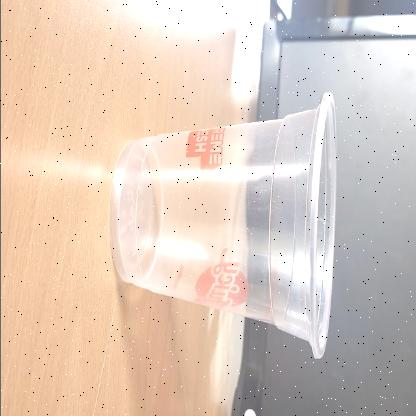Others: (107, 92, 338, 360)
